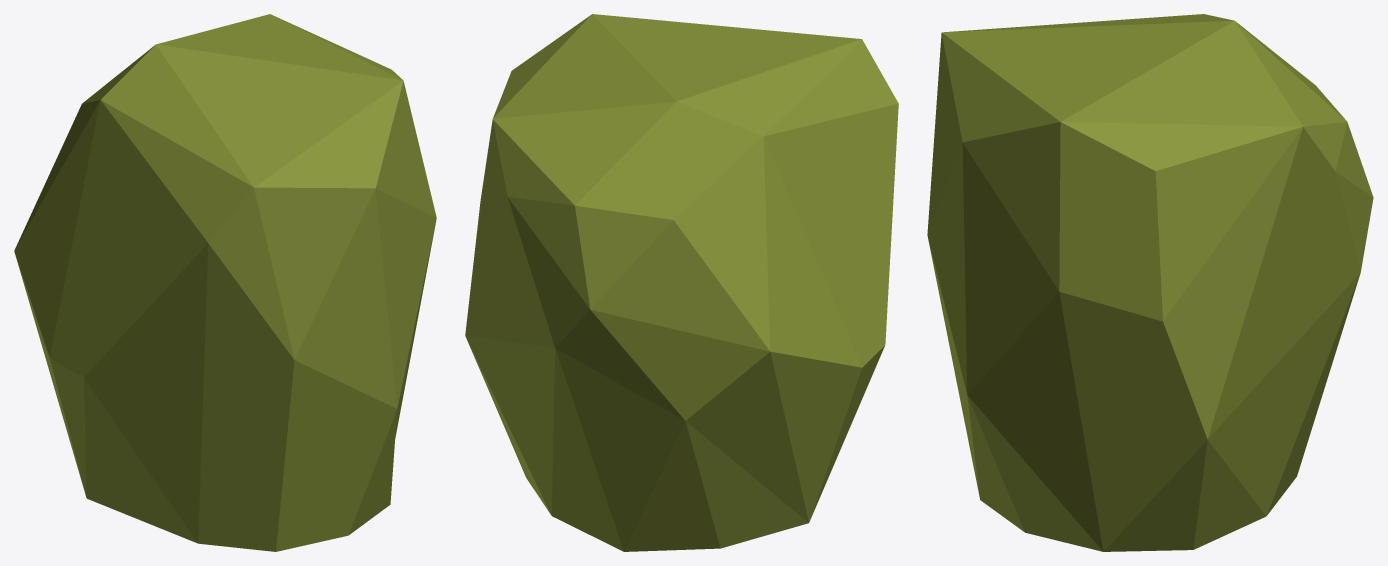
The model's file is ea_swamp_grass_02a_pre_lev1.glb.
The picture shows the model from 3 angles, left to right: view 1: azimuth 30°, elevation 25°; view 2: azimuth 150°, elevation 25°; view 3: azimuth 270°, elevation 25°; orthographic projection. The views are drawn at different scales.
Visible parts, largest first — view 1: ea_swamp_grass_02a_pre_lev1; view 2: ea_swamp_grass_02a_pre_lev1; view 3: ea_swamp_grass_02a_pre_lev1.
Part boxes in pixels (x1,y1,x2,y2): ea_swamp_grass_02a_pre_lev1: [14, 14, 436, 551]; ea_swamp_grass_02a_pre_lev1: [465, 14, 898, 551]; ea_swamp_grass_02a_pre_lev1: [927, 14, 1373, 551].
Bounding box in the file's own units: 0.4487 × 0.4915 × 0.4469.
1 material, 1 textured.
